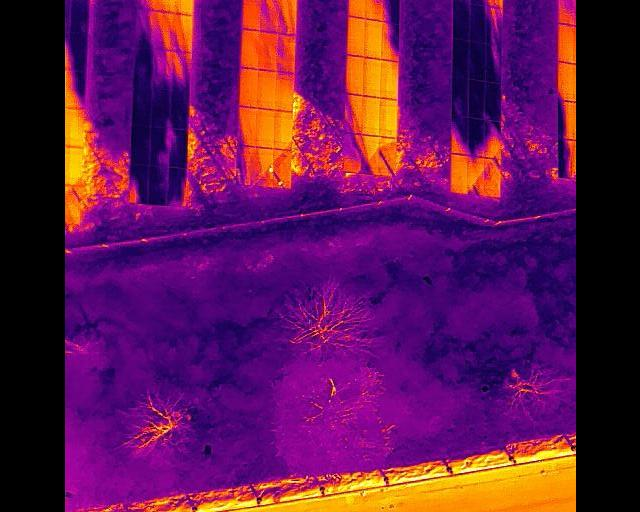Cell: (272, 149, 290, 188), (256, 148, 273, 186)
No-Anomaly: (256, 32, 276, 71), (557, 23, 576, 64), (557, 63, 576, 104), (239, 30, 258, 70), (239, 107, 258, 147), (239, 70, 258, 108), (64, 108, 83, 146), (361, 97, 379, 137), (345, 56, 363, 95), (275, 73, 293, 112), (274, 111, 292, 150), (64, 147, 82, 186), (379, 61, 397, 99), (361, 59, 379, 97), (258, 70, 275, 110), (379, 99, 396, 138), (364, 20, 381, 59), (347, 18, 364, 57), (257, 109, 274, 147), (450, 154, 466, 193), (242, 0, 259, 30), (348, 0, 364, 17), (174, 0, 192, 13), (156, 0, 175, 12)
Shadowing: (150, 87, 170, 129), (130, 87, 150, 128), (169, 13, 190, 51), (170, 87, 189, 129), (148, 128, 169, 166), (147, 166, 167, 205), (237, 147, 256, 187), (134, 10, 153, 50), (66, 34, 86, 72), (128, 166, 148, 204), (558, 101, 576, 143), (276, 34, 295, 73), (168, 129, 187, 168), (166, 168, 185, 207), (130, 127, 149, 166), (151, 12, 170, 50), (483, 7, 502, 45), (170, 51, 190, 87), (64, 186, 82, 226), (558, 141, 576, 181), (65, 72, 84, 109), (150, 50, 169, 87), (343, 95, 361, 134), (68, 0, 89, 33), (380, 23, 398, 61), (342, 134, 360, 172), (483, 159, 501, 197), (466, 5, 484, 42), (450, 117, 468, 154), (361, 137, 378, 175), (133, 49, 150, 87), (452, 77, 468, 117), (483, 81, 499, 121), (468, 42, 484, 82), (278, 0, 296, 35), (258, 0, 277, 33), (467, 81, 483, 120), (452, 39, 468, 78), (467, 156, 483, 194), (379, 138, 395, 176), (483, 120, 499, 158), (453, 3, 468, 39), (485, 44, 499, 82), (469, 120, 483, 157), (558, 0, 576, 25), (382, 0, 398, 23), (365, 0, 382, 20), (137, 0, 157, 10)
